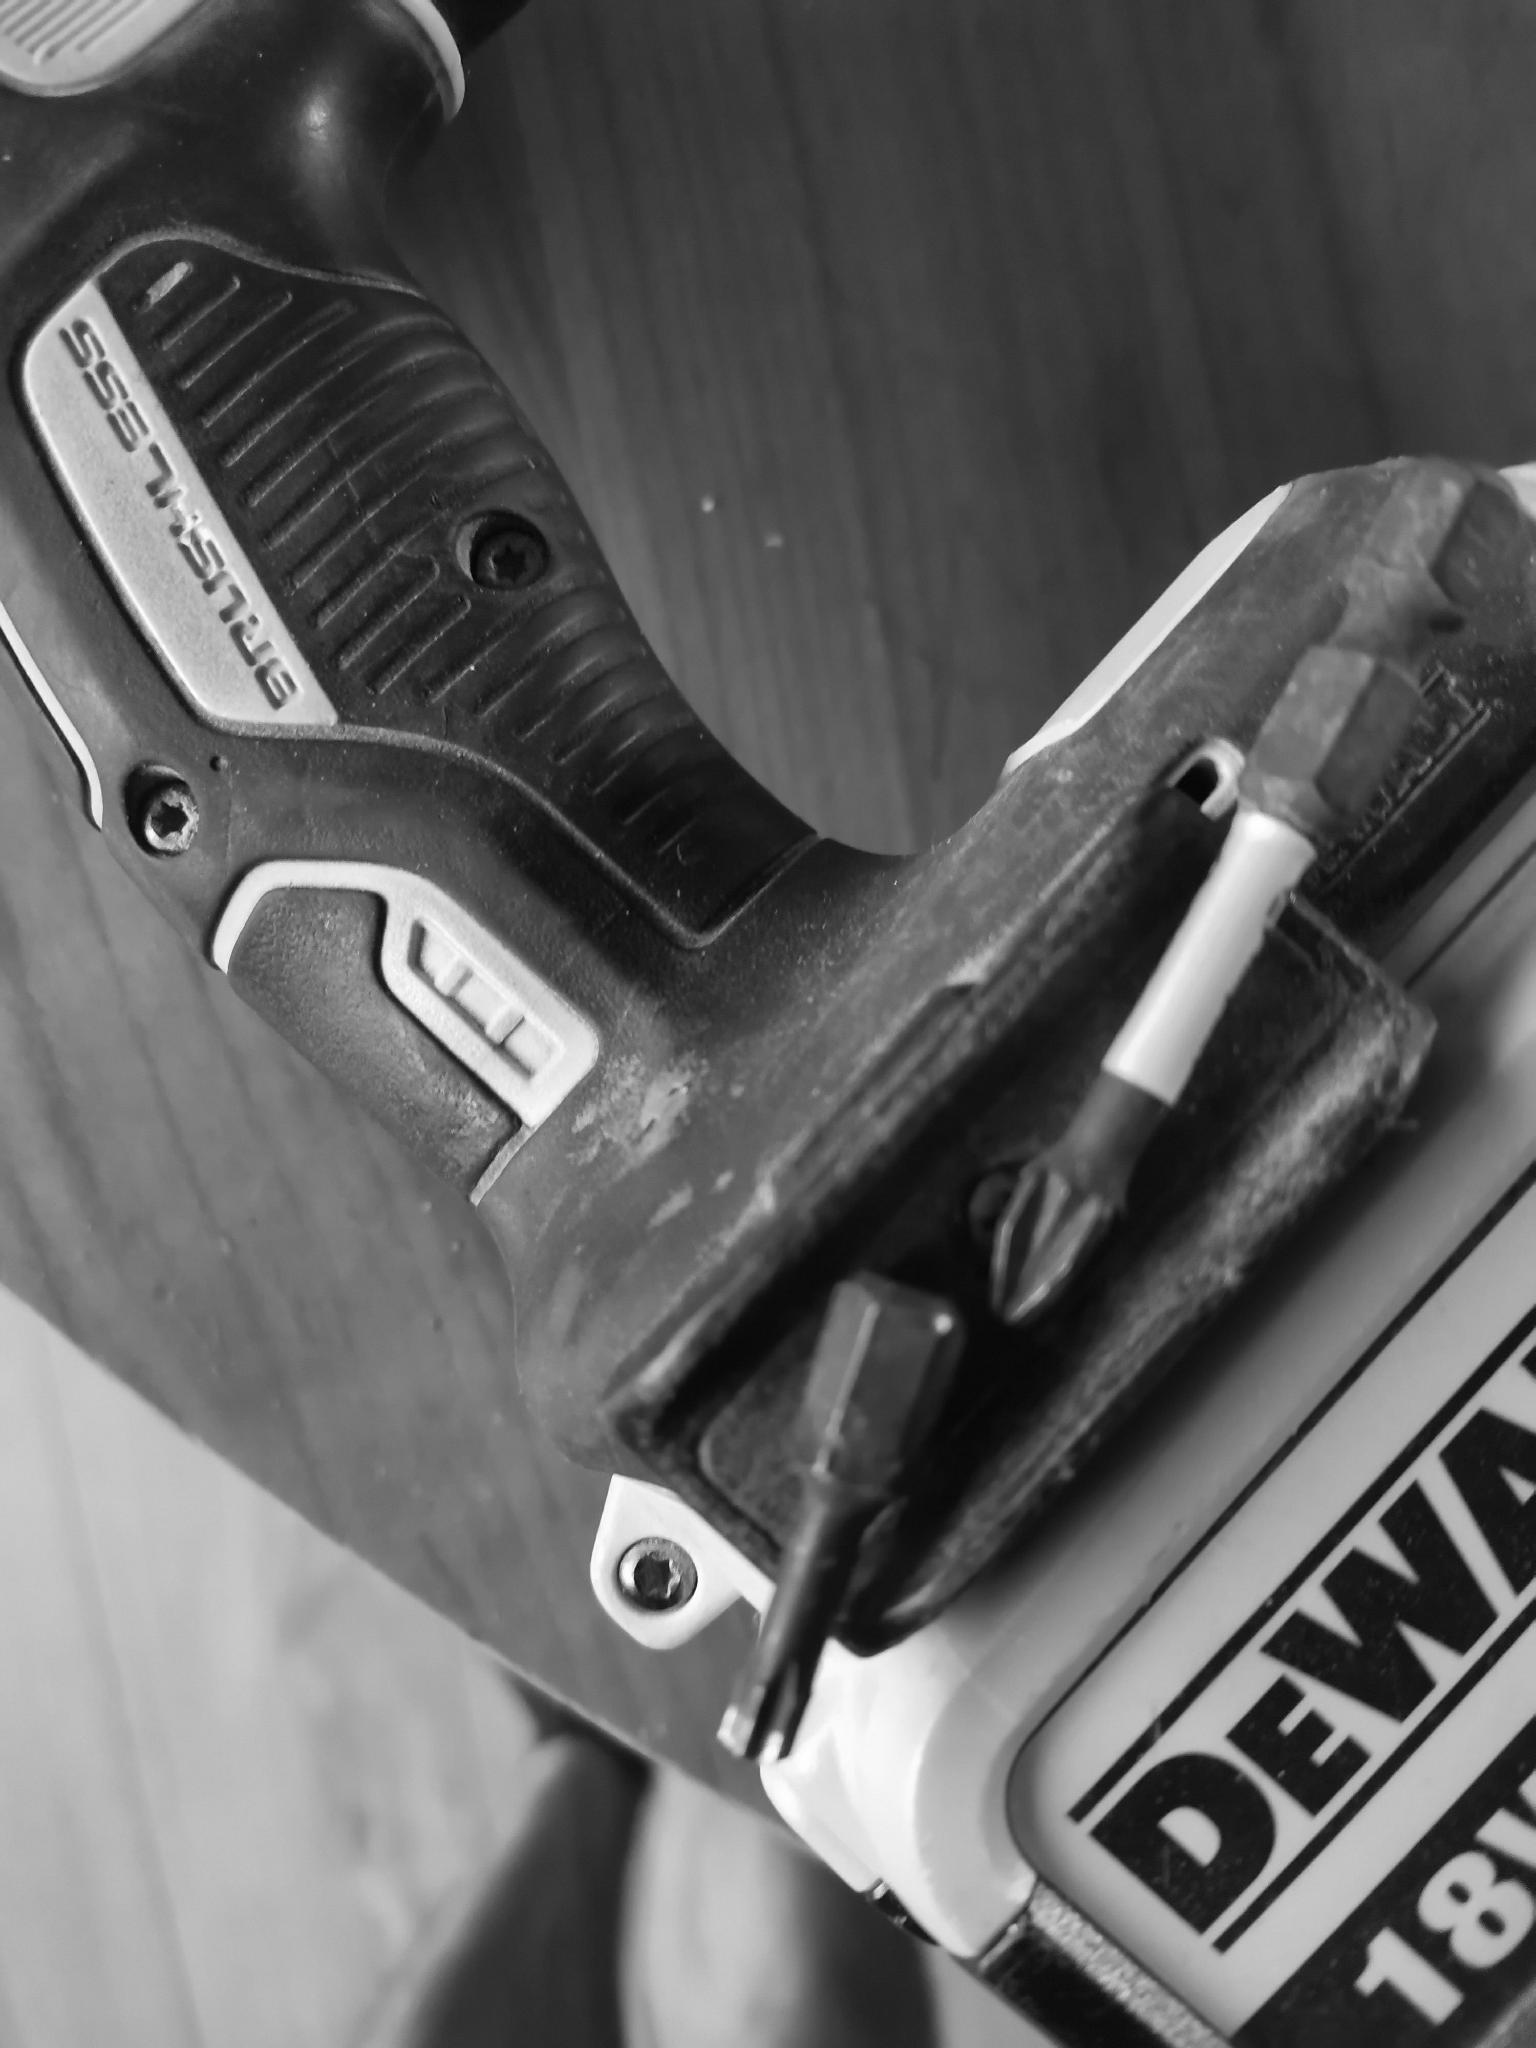torx: (605, 1532, 705, 1624), (453, 519, 544, 600), (121, 777, 208, 858)
